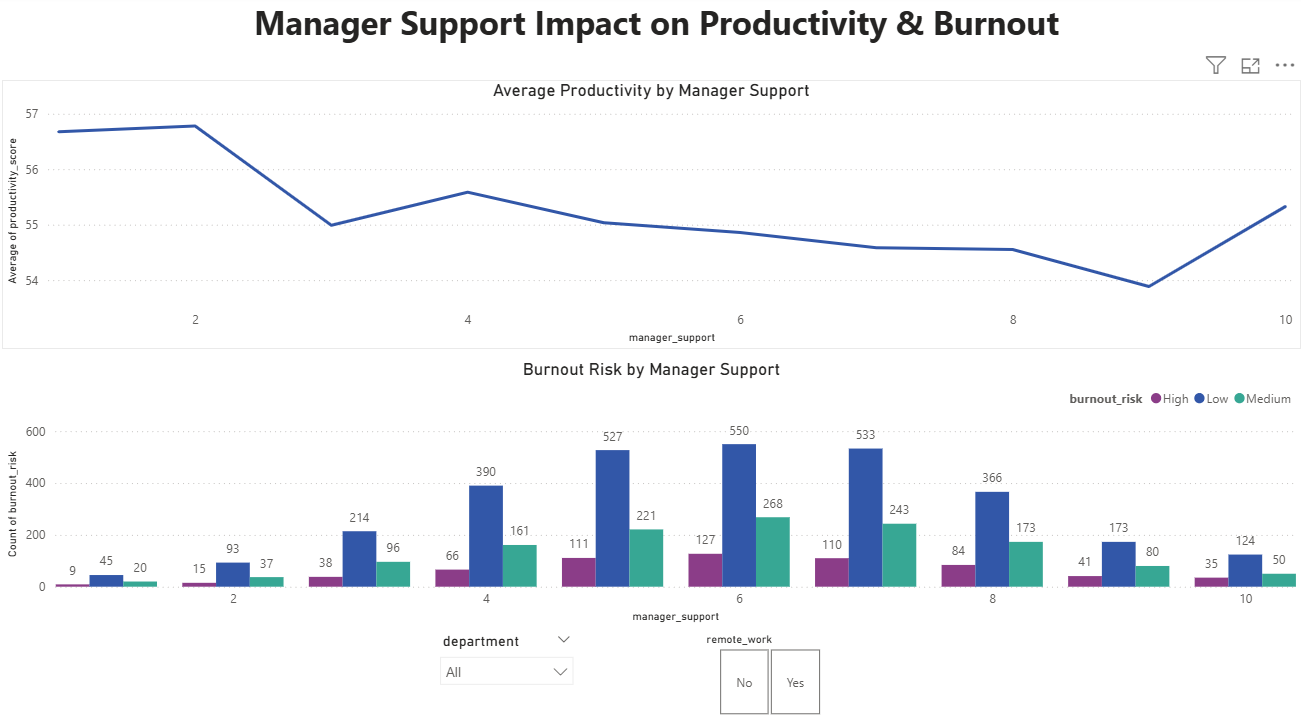

This screenshot's page, from the dashboard's own definition file:
{"tool":"powerbi","page":{"name":"Manager Impact","canvas":[1280,720],"ordinal":3},"visuals":[{"type":"textbox","box":[9.8,0,1270.5,57.5],"z":0},{"type":"lineChart","title":"Average Productivity by Manager Support","fields":{"Category":["Employee Wellness.manager_support"],"Y":["Avg(Employee Wellness.productivity_score)"]},"box":[4.9,83.2,1270.5,262.9],"z":1000},{"type":"clusteredColumnChart","title":"Burnout Risk by Manager Support","fields":{"Category":["Employee Wellness.manager_support"],"Series":["Employee Wellness.burnout_risk"],"Y":["CountNonNull(Employee Wellness.burnout_risk)"]},"box":[5,356,1271,263],"z":2000},{"type":"slicer","fields":{"Values":["Employee Wellness.remote_work"]},"box":[681.1,618.8,148,91.7],"z":3000},{"type":"slicer","fields":{"Values":["Employee Wellness.department"]},"box":[423.1,618.8,150.4,91.7],"z":4000}]}

Visuals, with their boxes in screenshot pixels (x1, y1, x2, y2), scaled from the page's 1280x720 canvas onto the 1301x727 screenshot:
textbox: rect(10, 0, 1300, 58)
"Average Productivity by Manager Support" lineChart: rect(5, 84, 1296, 349)
"Burnout Risk by Manager Support" clusteredColumnChart: rect(5, 359, 1297, 625)
slicer - Employee Wellness.remote_work: rect(692, 625, 843, 717)
slicer - Employee Wellness.department: rect(430, 625, 583, 717)
